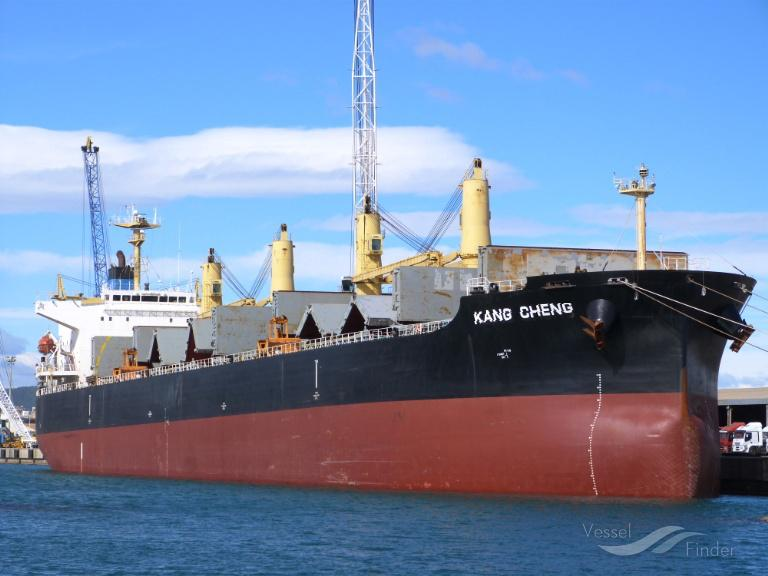OCR: (470, 304, 579, 329)
